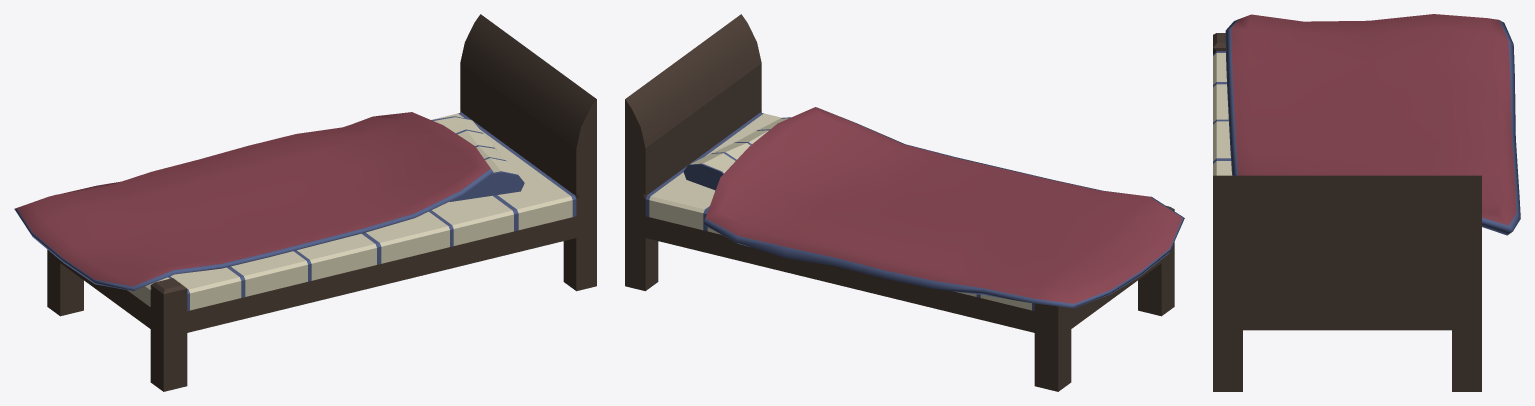
3 renders of one model, left to right at view 1: azimuth 30°, elevation 25°; view 2: azimuth 150°, elevation 25°; view 3: azimuth 270°, elevation 25°, orthographic. The views are drawn at different scales.
Parts seen in each view (by area): view 1: pillow; view 2: pillow; view 3: pillow.
Boxes of the visible parts, x1,y1,x2,y2 form: pillow: (14,14,596,391); pillow: (625,14,1184,391); pillow: (1213,14,1520,391).
Bounding box in the file's own units: 11.78 × 4.51 × 5.81.
